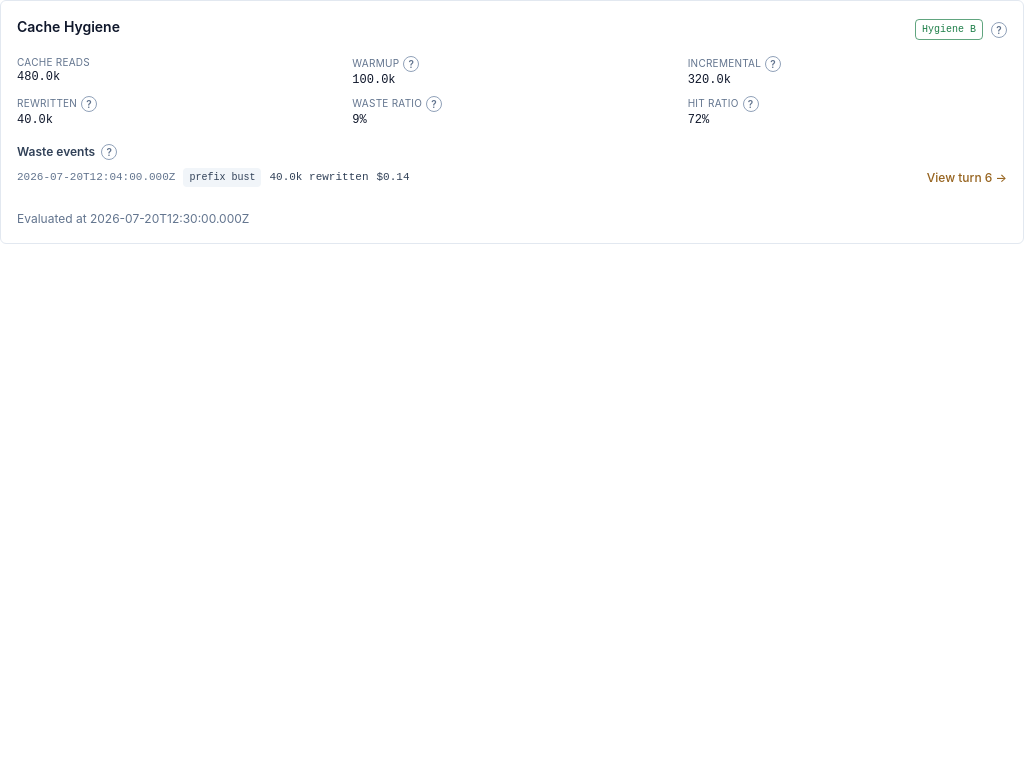
it: ScorecardView › opens a metric's info modal with its description
Click the button named "What does \"waste ratio\" mean?". click: (434, 104)
box: [426,96,442,112]
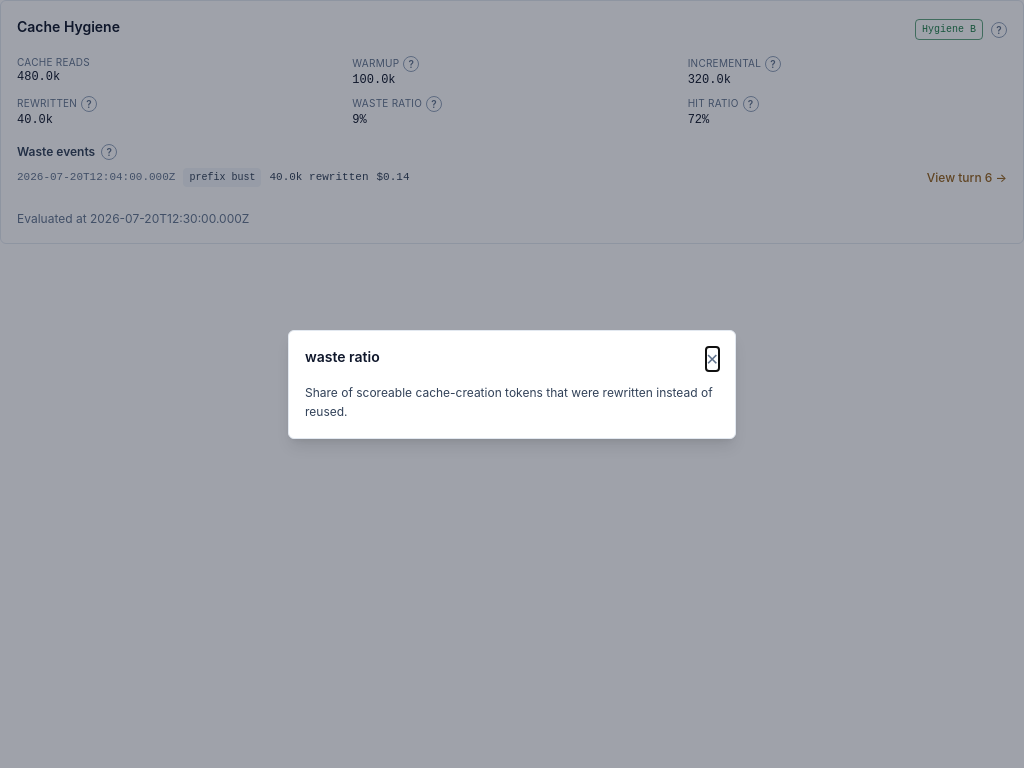
Now the text "rewritten instead of reused" is shown, box [305,384,713,419]
